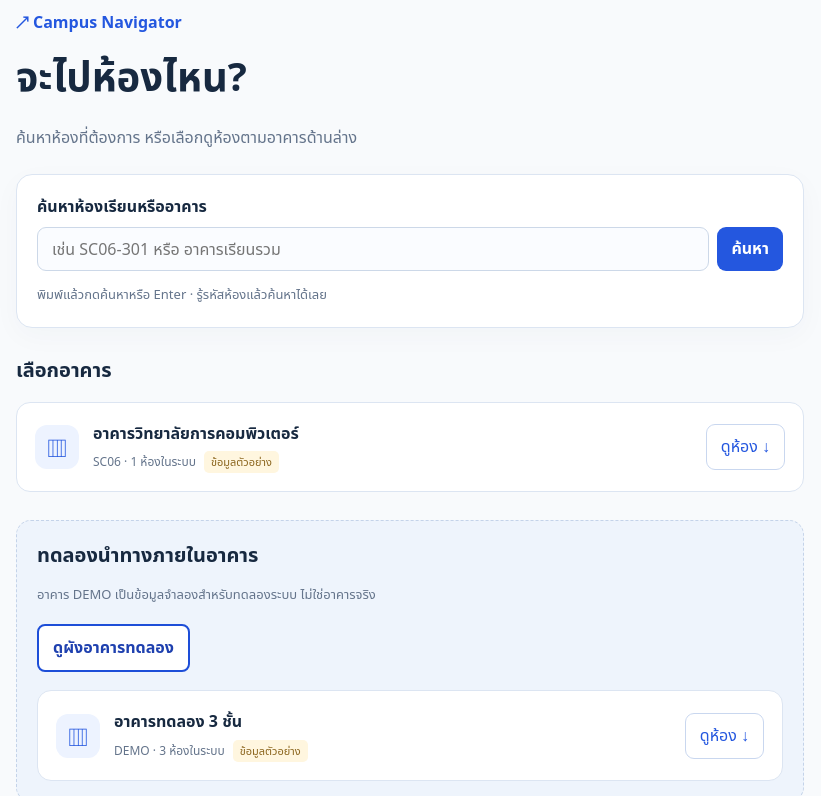
Scenario: building-name search expands matching rooms and keeps DEMO separate
Check: the element with class "cn-demo" shows "อาคารทดลอง 3 ชั้น", box [114,710,242,732]
Check: the text "อาคารทดลอง 3 ชั้น" is not shown
Type "อาคารวิทยาลัยการคอมพิวเตอร์" into the field labelled "ค้นหาห้องเรียนหรืออาคาร" at (373, 249), box [37,227,709,271]
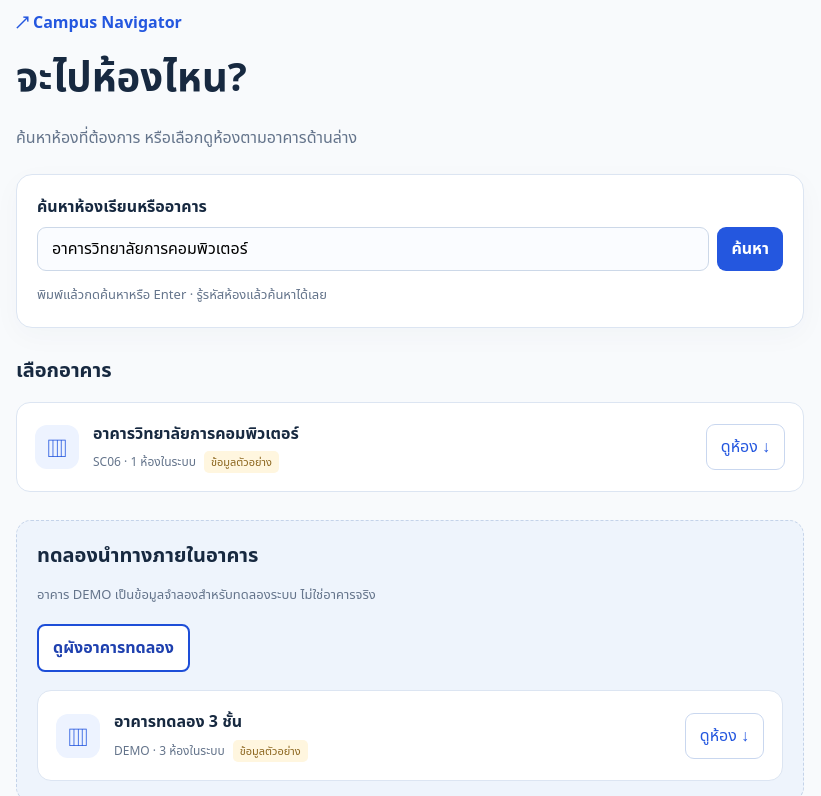
Submit the form, box [16,174,804,328]
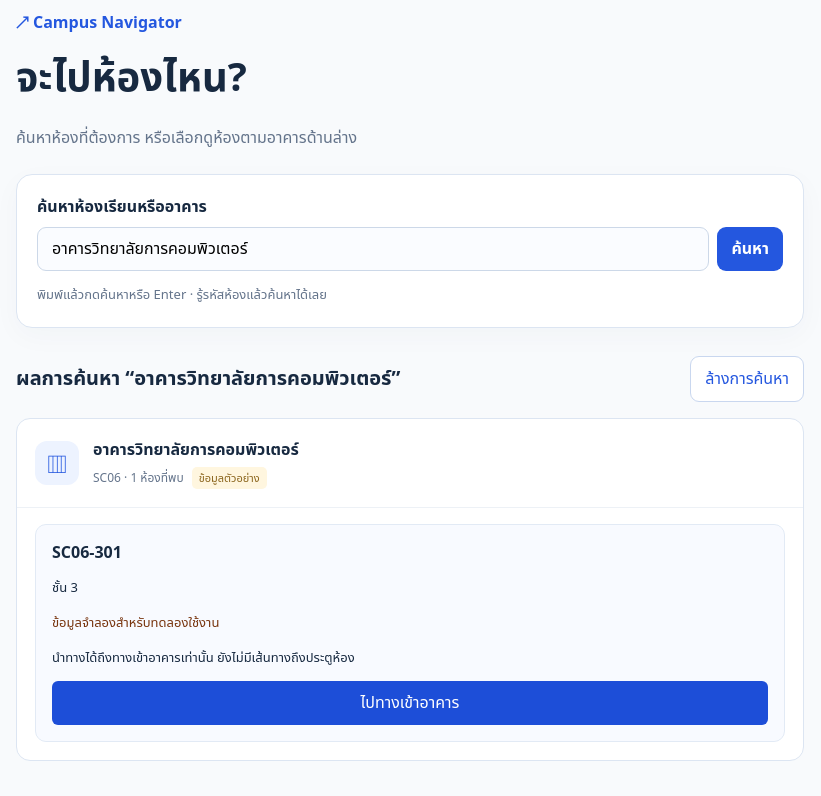
Check: the text "SC06-301" is shown, box [52,541,122,563]
